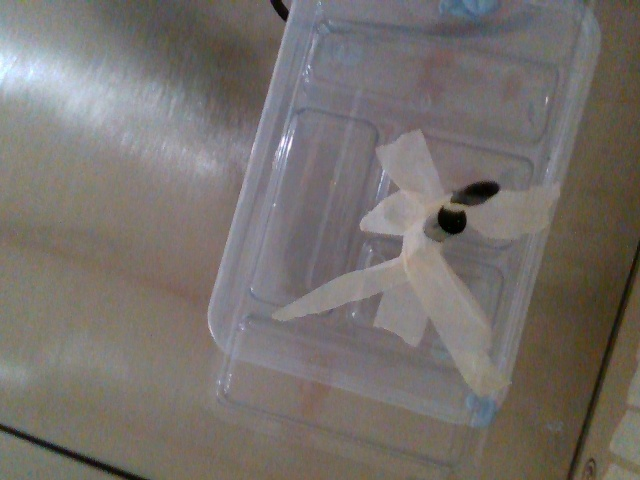test_strip: (441, 178, 498, 212)
